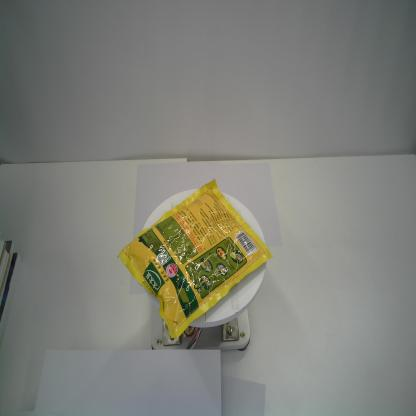Seasoner: (116, 176, 274, 338)
